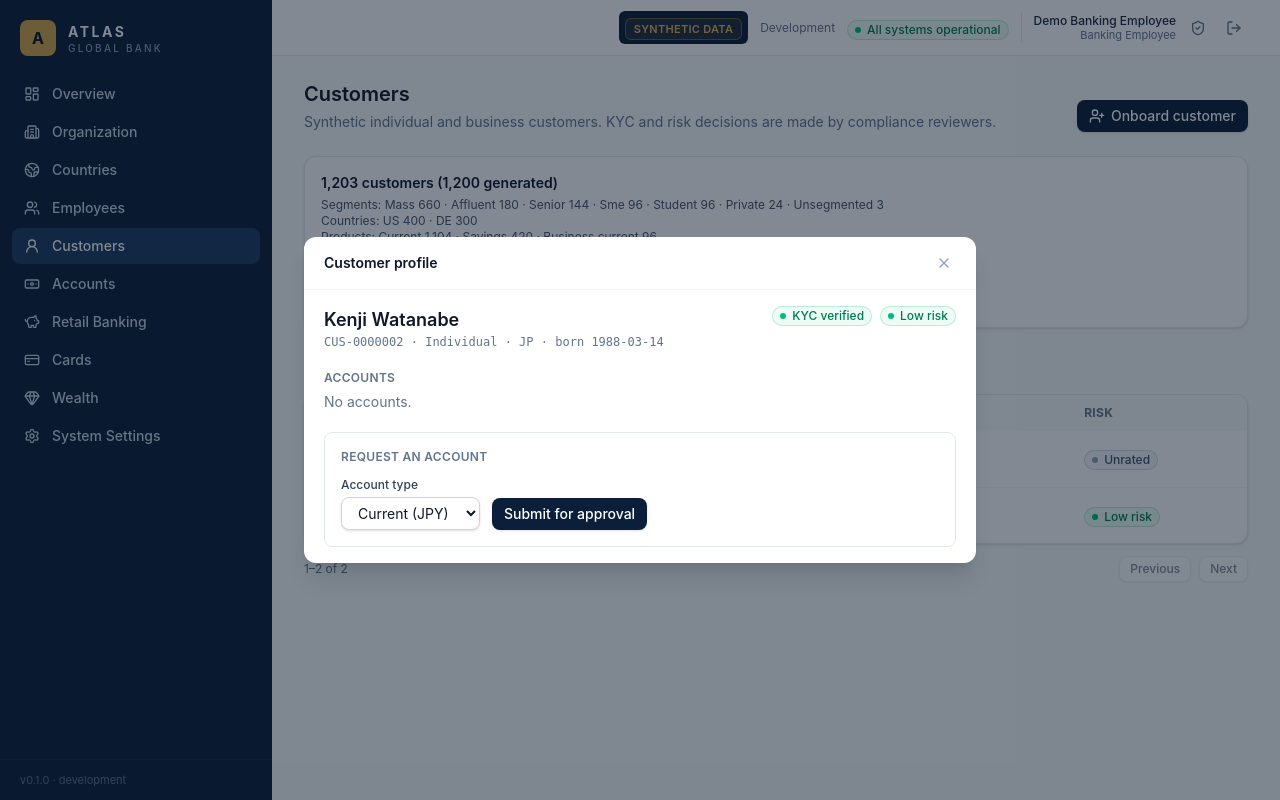
Test case: Customers page › submits an account request for an eligible customer
Step 1. Click the button "Submit for approval" → (570, 514), box [492,498,647,530]
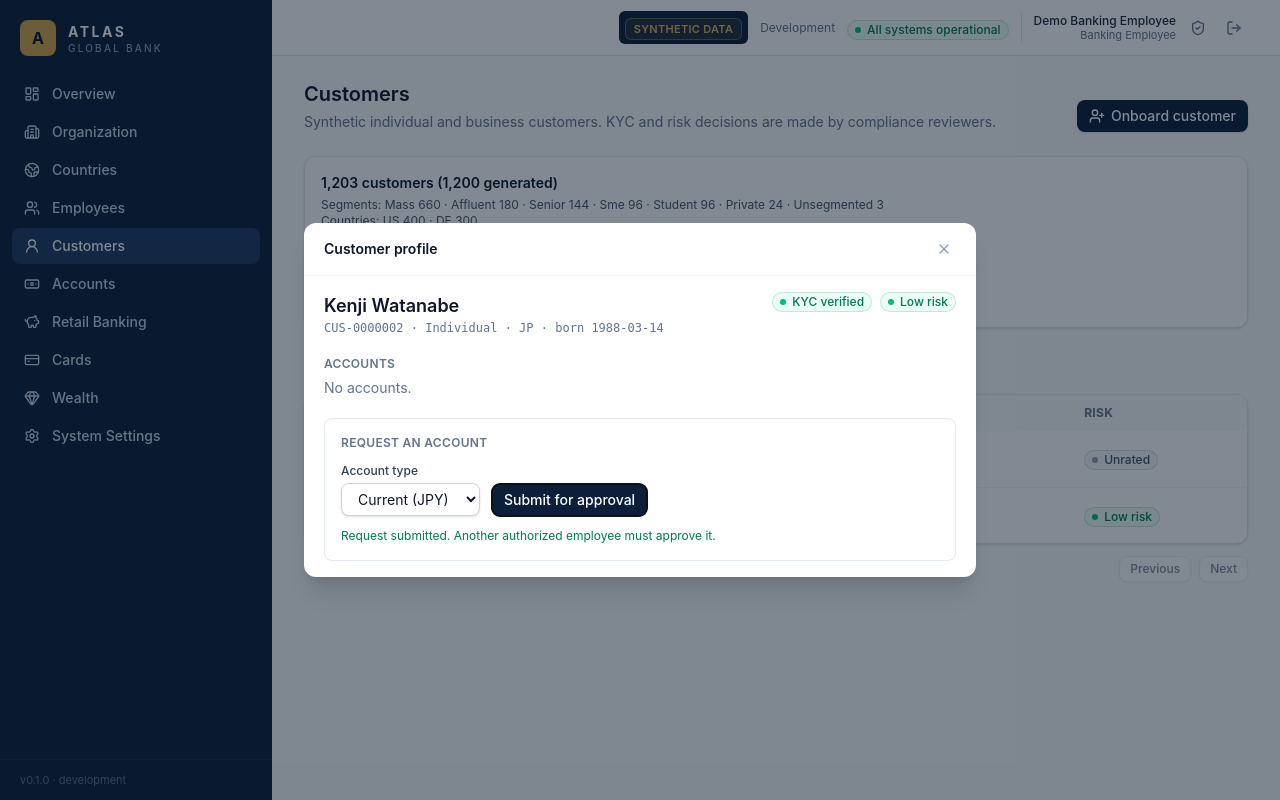
Check: the message shows "Another authorized employee must approve it", box [341,528,716,543]
